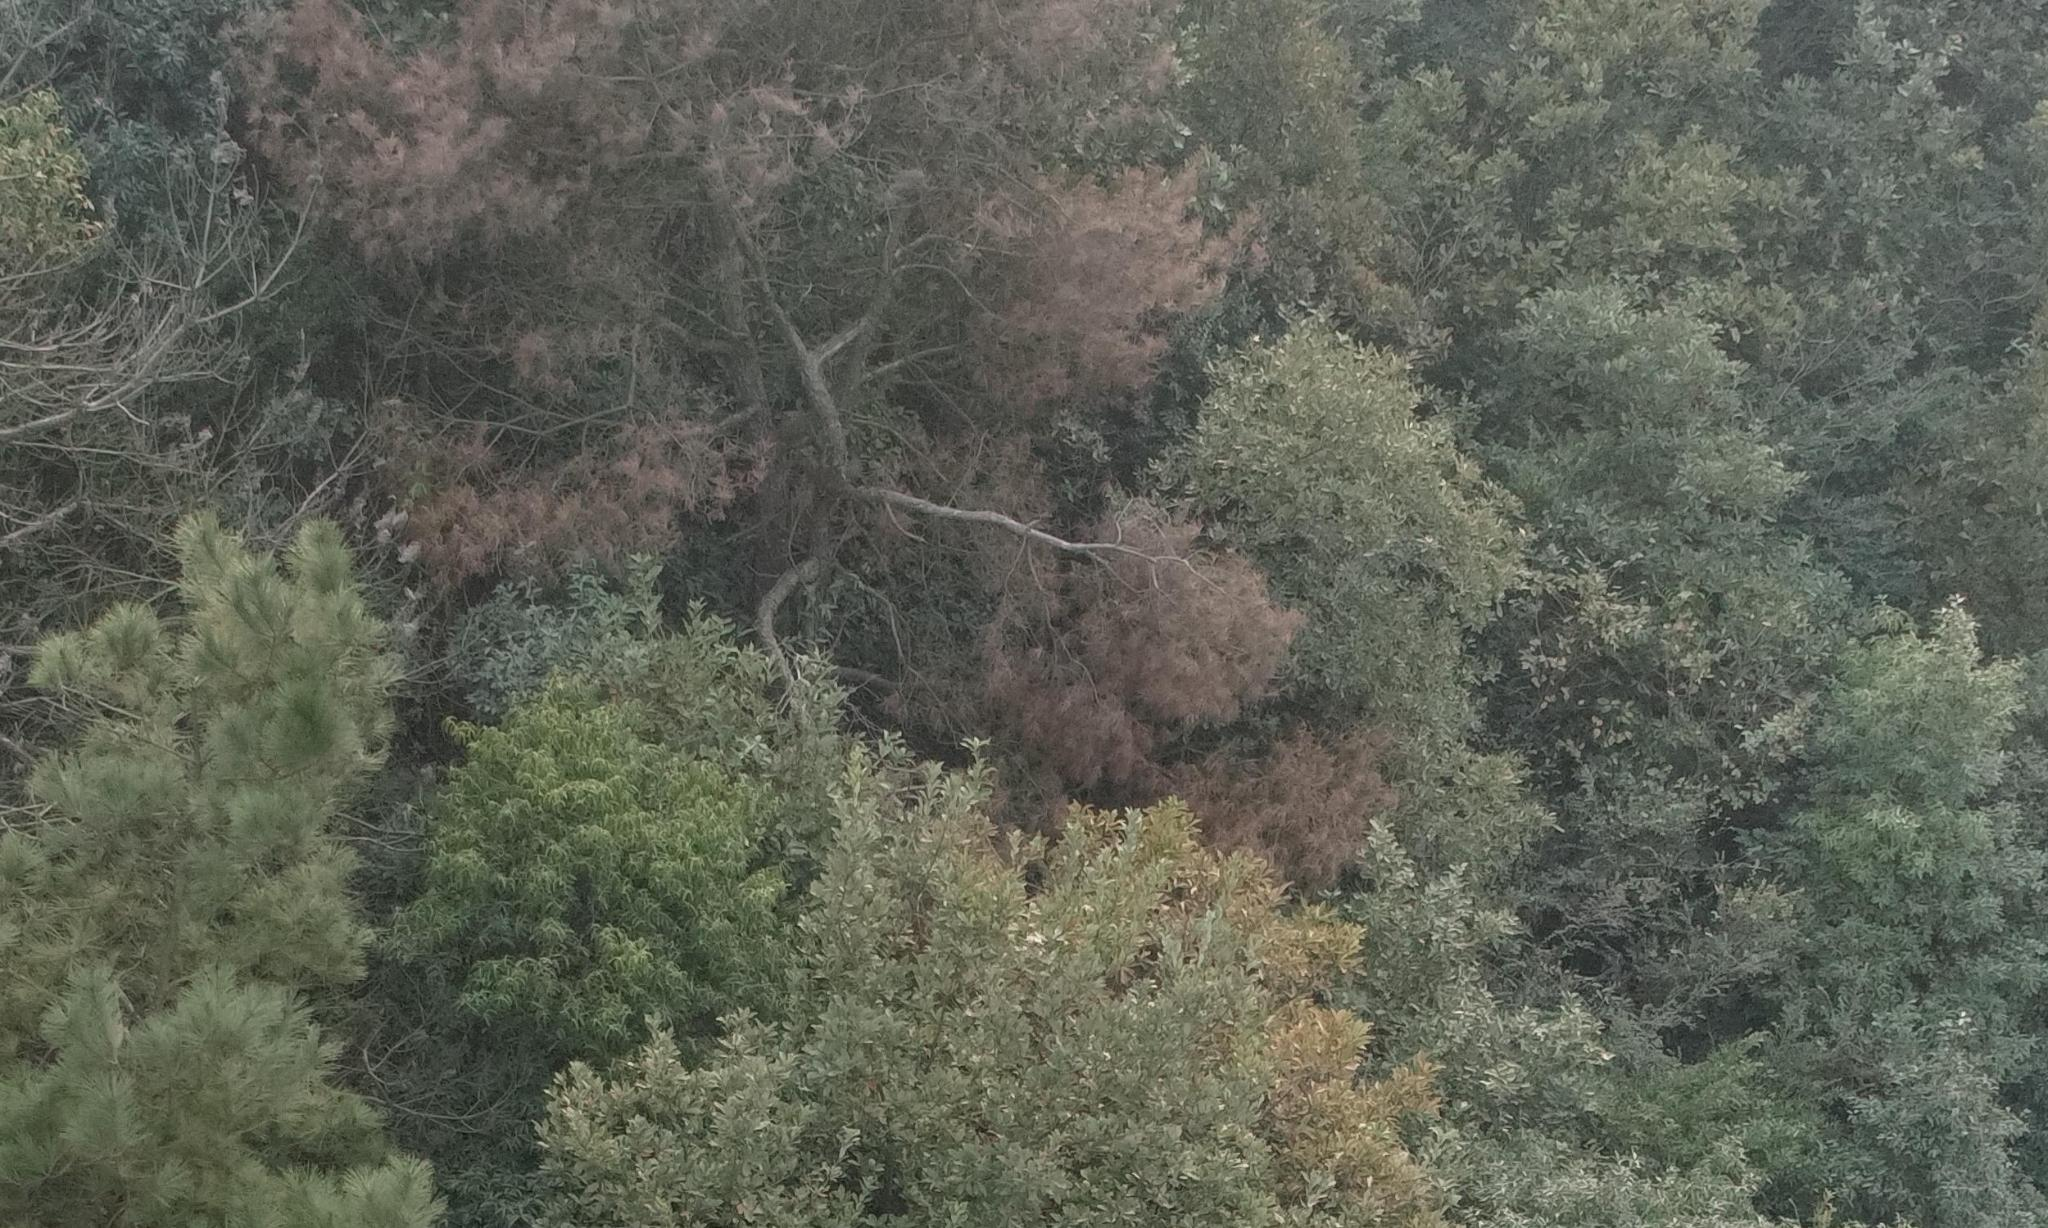heavy: (827, 7, 1364, 879), (222, 10, 754, 588)
